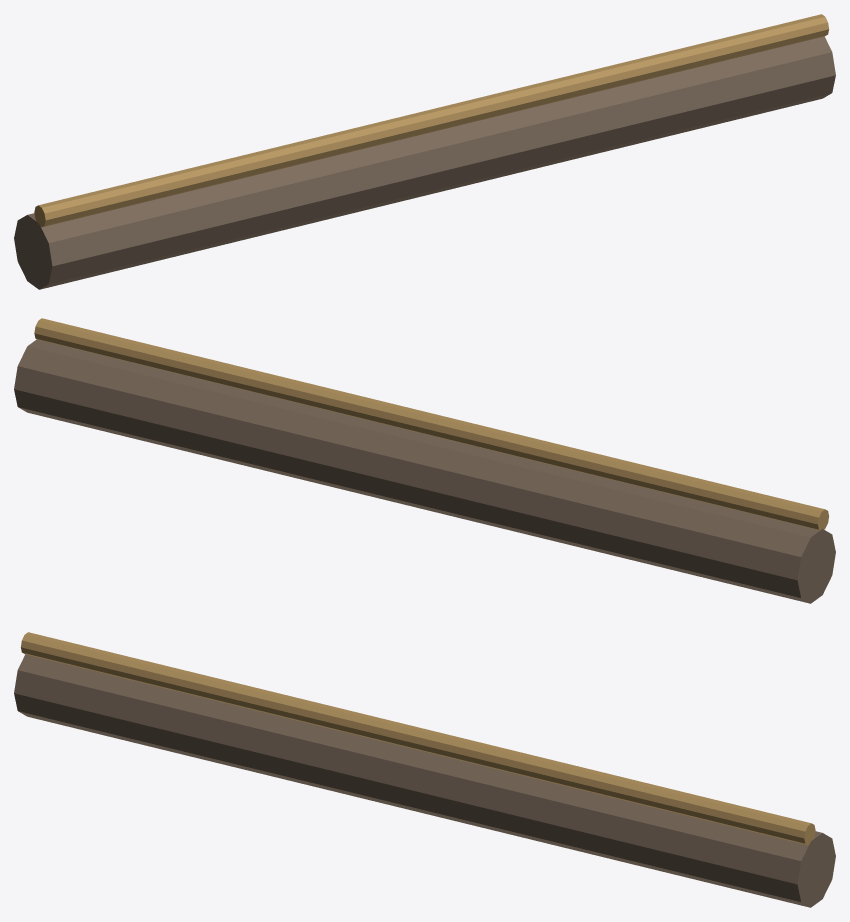
Rendered from ridge_intact.glb.
3 renders of one model, top to bottom at view 1: azimuth 30°, elevation 25°; view 2: azimuth 150°, elevation 25°; view 3: azimuth 330°, elevation 25°, orthographic.
Visible parts, largest first — view 1: Body.041; view 2: Body.041; view 3: Body.041.
Boxes of the visible parts, bbox=[...] form: Body.041: bbox=[14, 14, 835, 289]; Body.041: bbox=[14, 318, 835, 603]; Body.041: bbox=[14, 632, 835, 907].
Size of the model in its own units: 2 by 0.2046 by 0.17.
